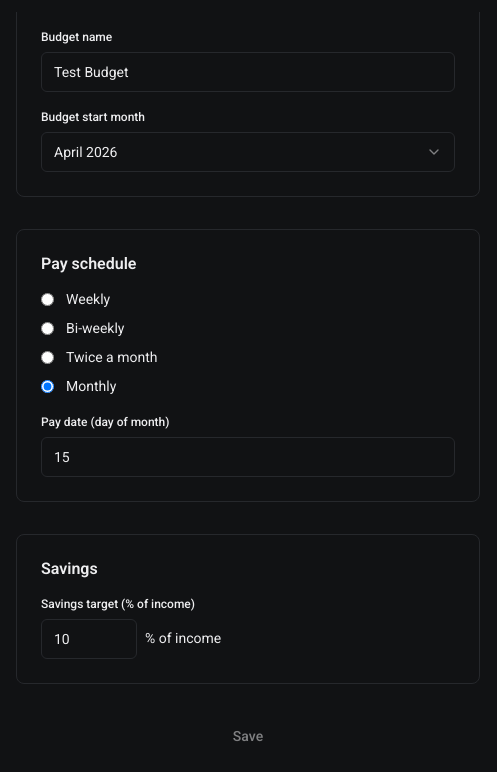
Test: SettingsPage › shows inline "Settings saved." message after successful save
(page scrolled)
Change savings target to make form dirty (required to enable Save)
Replace the text in the number field with test id "savings-target-input" with "20" at (89, 639), box [41,619,137,659]
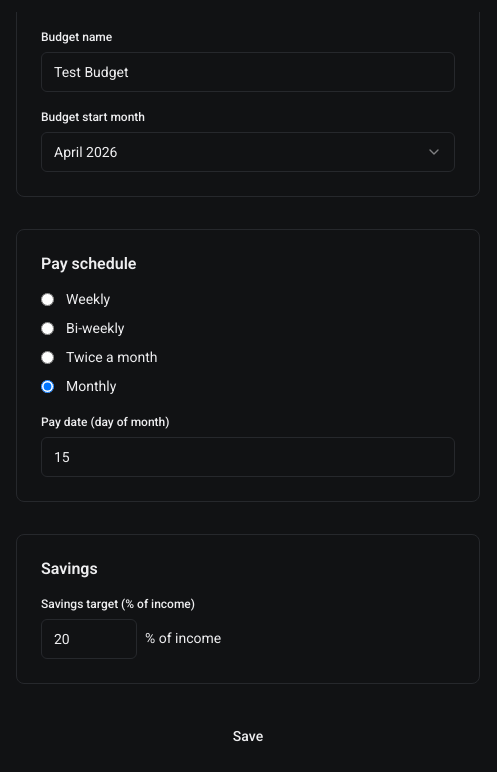
Click the button with test id "save-settings-button".
click(248, 736)  # box [16,716,480,756]
(page scrolled)
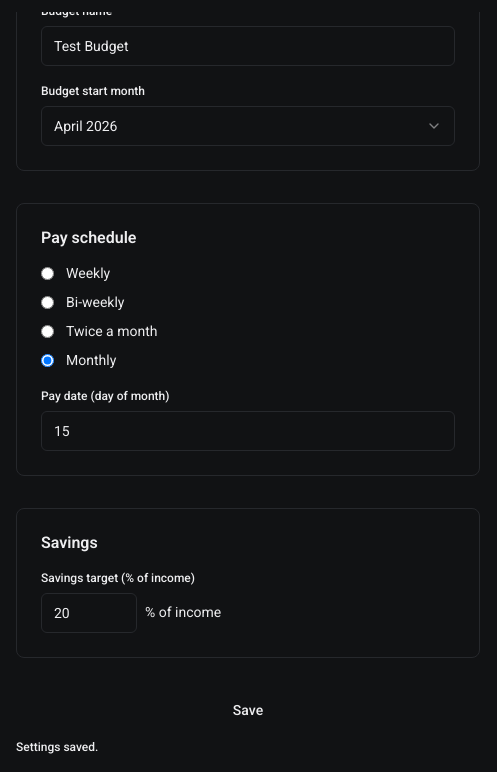
expect the text "Settings saved." is shown: met, box [16,740,98,754]
